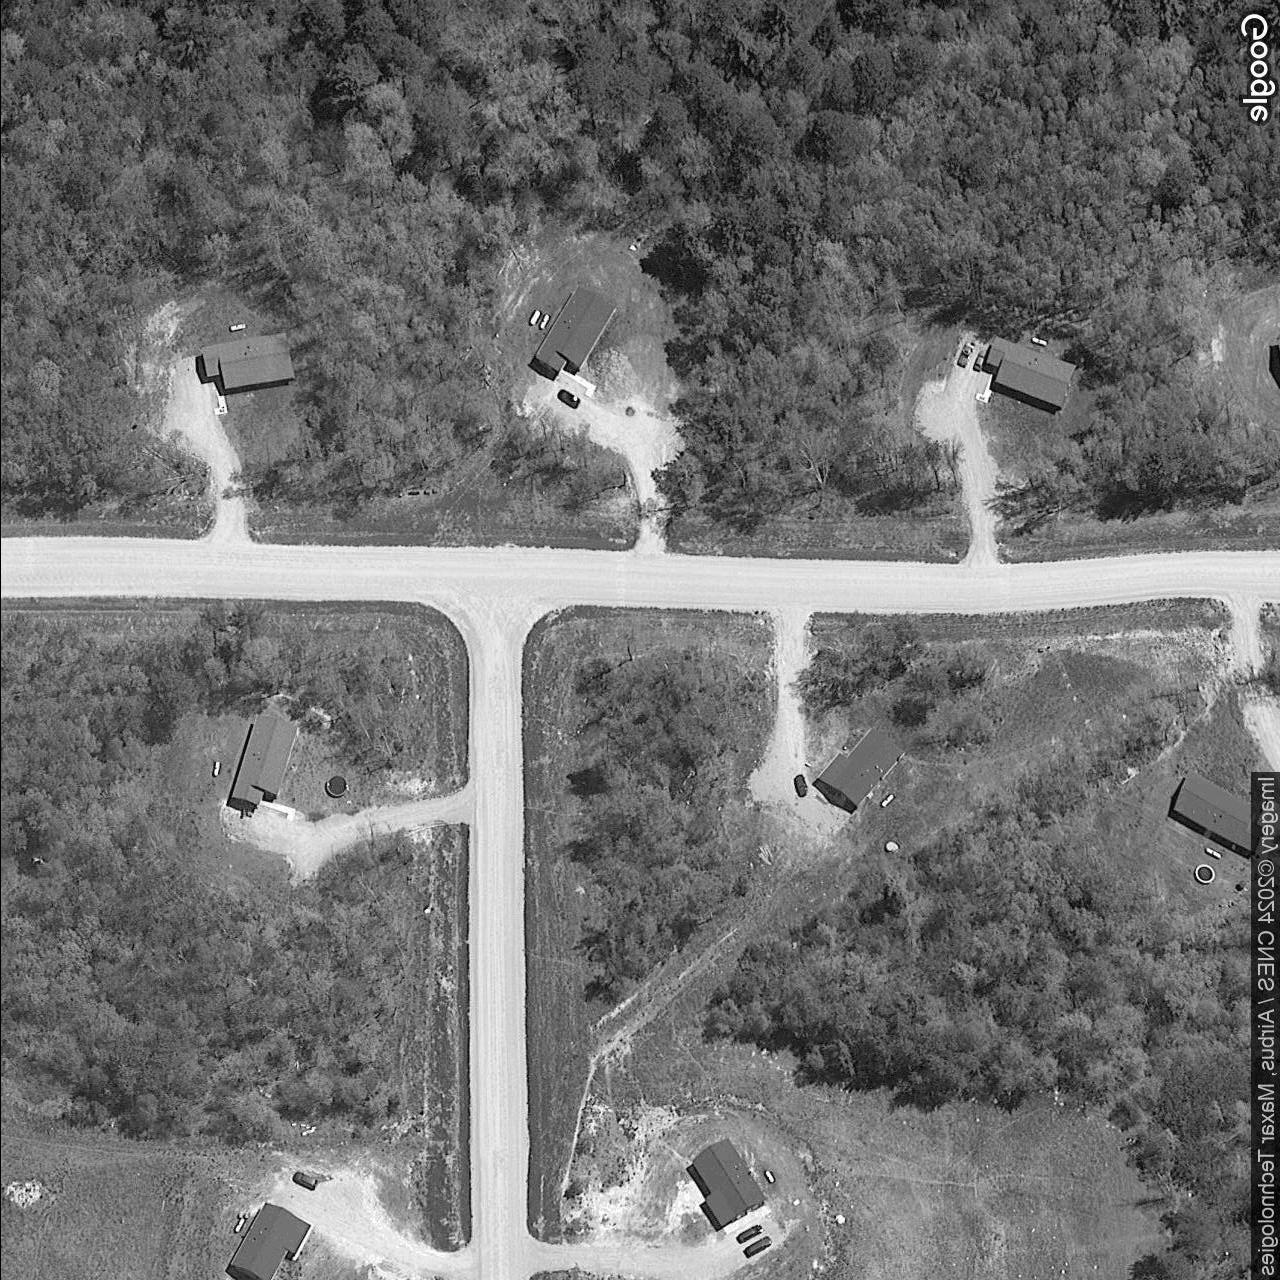House: (532, 285, 618, 374), (689, 1137, 767, 1231), (816, 727, 906, 806), (983, 335, 1077, 410), (229, 1199, 312, 1279), (1170, 771, 1250, 853), (230, 714, 297, 808), (200, 331, 295, 390)
Propane: (874, 791, 898, 810), (1200, 845, 1225, 862), (524, 307, 543, 328), (533, 312, 551, 334), (760, 1166, 777, 1187), (206, 760, 223, 779), (1027, 334, 1048, 349), (231, 1217, 246, 1234), (226, 321, 248, 333)
